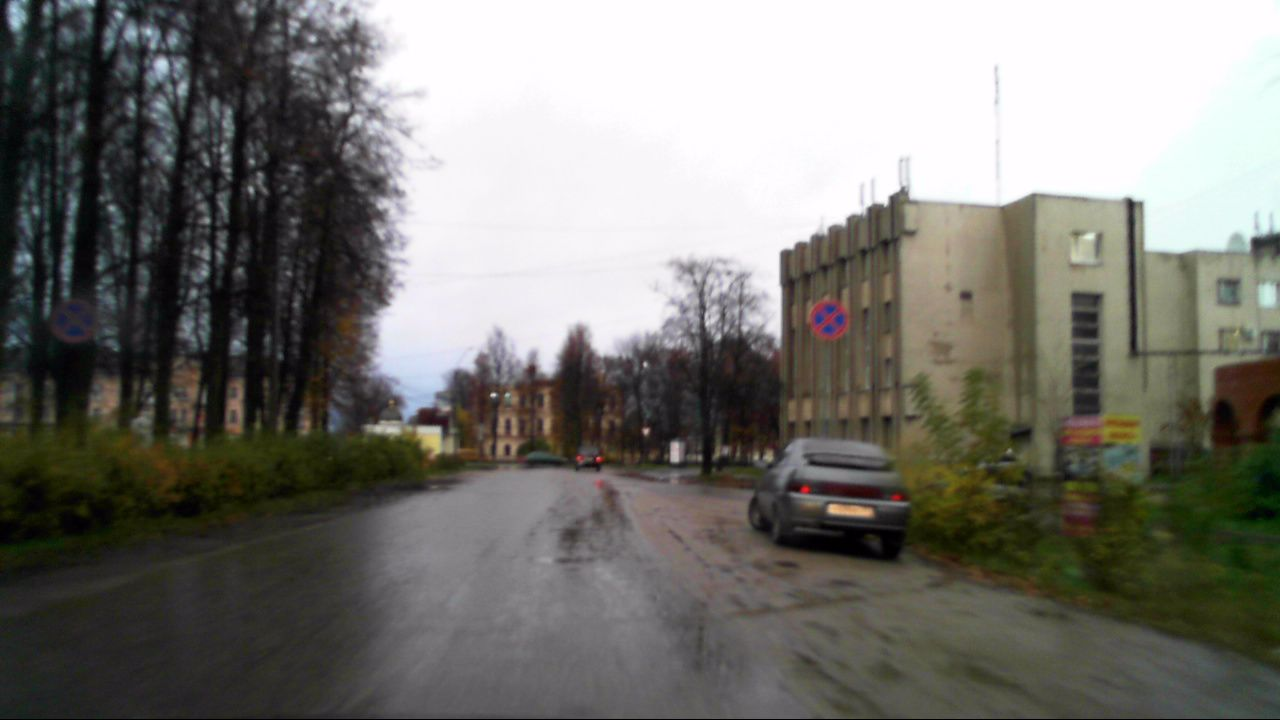No Parking: (810, 301, 848, 340)
